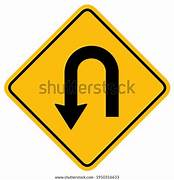back: (4, 5, 170, 171)
